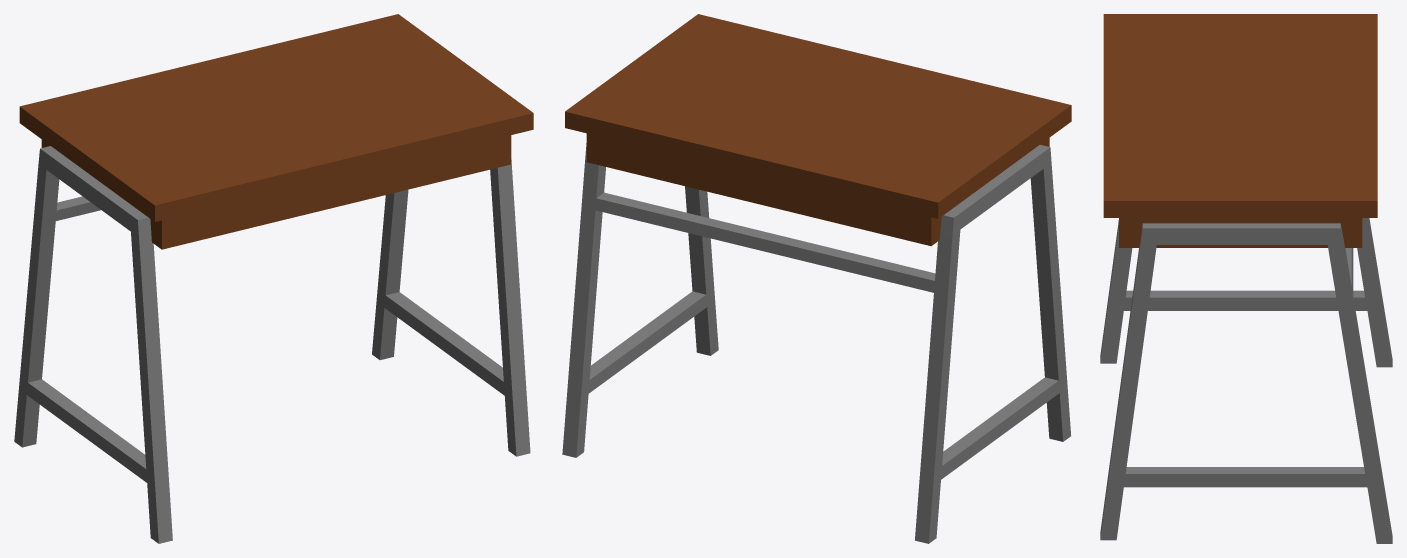
Rendered from table.glb.
3 views of the same model, side by side, from view 1: azimuth 30°, elevation 25°; view 2: azimuth 150°, elevation 25°; view 3: azimuth 270°, elevation 25° (orthographic). The views are drawn at different scales.
Parts seen in each view (by area): view 1: pCube37.016; view 2: pCube37.016; view 3: pCube37.016.
Part boxes in pixels (x1,y1,x2,y2): pCube37.016: [14, 14, 533, 543]; pCube37.016: [562, 14, 1071, 543]; pCube37.016: [1100, 14, 1392, 543].
Bounding box in the file's own units: 0.8279 × 0.7127 × 0.5472.
